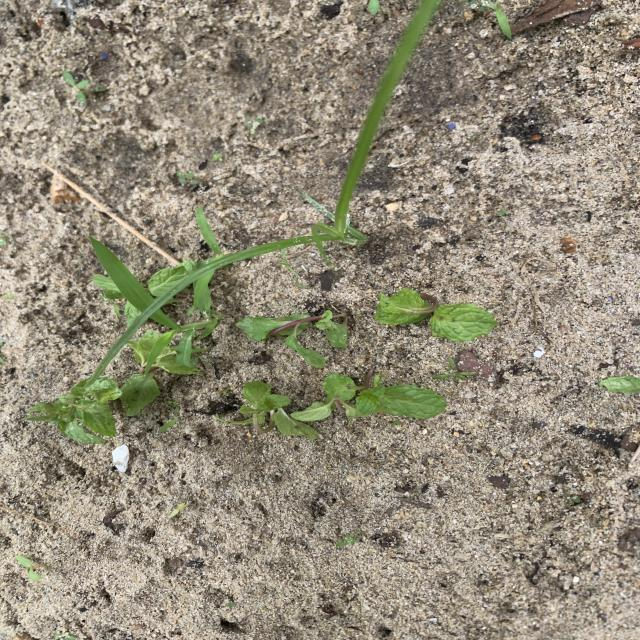crop: (293, 374, 446, 421), (375, 288, 497, 342), (26, 377, 121, 444), (236, 310, 348, 362), (228, 381, 319, 438), (120, 330, 160, 416), (154, 347, 199, 374), (599, 375, 640, 395)
weed: (88, 0, 440, 384), (149, 279, 217, 369), (196, 207, 222, 257), (480, 0, 512, 40), (433, 358, 476, 383), (281, 250, 308, 289), (62, 71, 90, 108), (15, 554, 44, 581), (156, 401, 180, 433), (174, 170, 204, 192), (334, 531, 364, 550), (167, 503, 187, 519), (366, 0, 380, 16), (207, 153, 223, 162), (89, 87, 106, 92), (300, 265, 309, 274), (202, 184, 209, 190)
